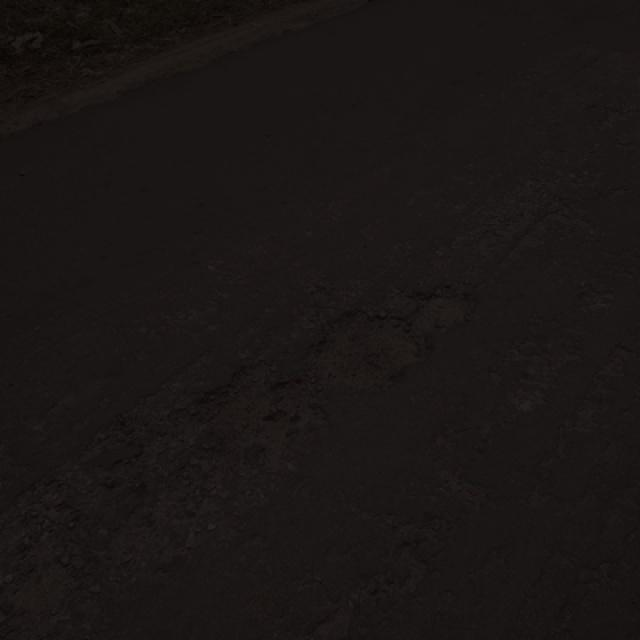Pothole: (86, 339, 301, 557), (316, 266, 482, 397)
